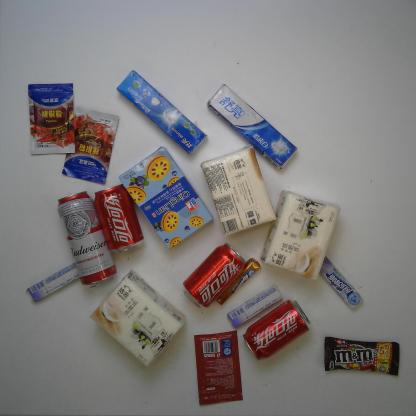Alcohol: (58, 192, 118, 288)
Candy: (226, 284, 284, 329), (318, 254, 364, 310), (25, 261, 80, 305), (216, 257, 260, 305)
Chocolate: (322, 334, 402, 378)
Dessert: (117, 145, 215, 249)
Drink: (182, 242, 246, 311), (243, 301, 309, 361), (93, 184, 144, 253)
Personal Hygiene: (116, 68, 209, 154), (207, 84, 299, 169)
Seasoner: (60, 105, 120, 185), (25, 81, 79, 156), (193, 330, 245, 407)
Tissue: (90, 271, 185, 366), (262, 188, 340, 281), (198, 146, 276, 236)
